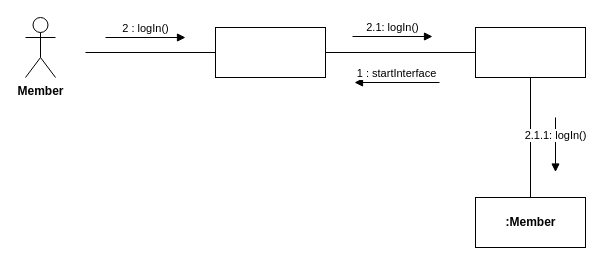
The diagram is 603 pixels wide and 265 high, and some of its shapes have lost their labels. Each missing label, with the centre of its shape:
":LogIn" belongs at [530,52].
":LogInUI" belongs at [270,52].
